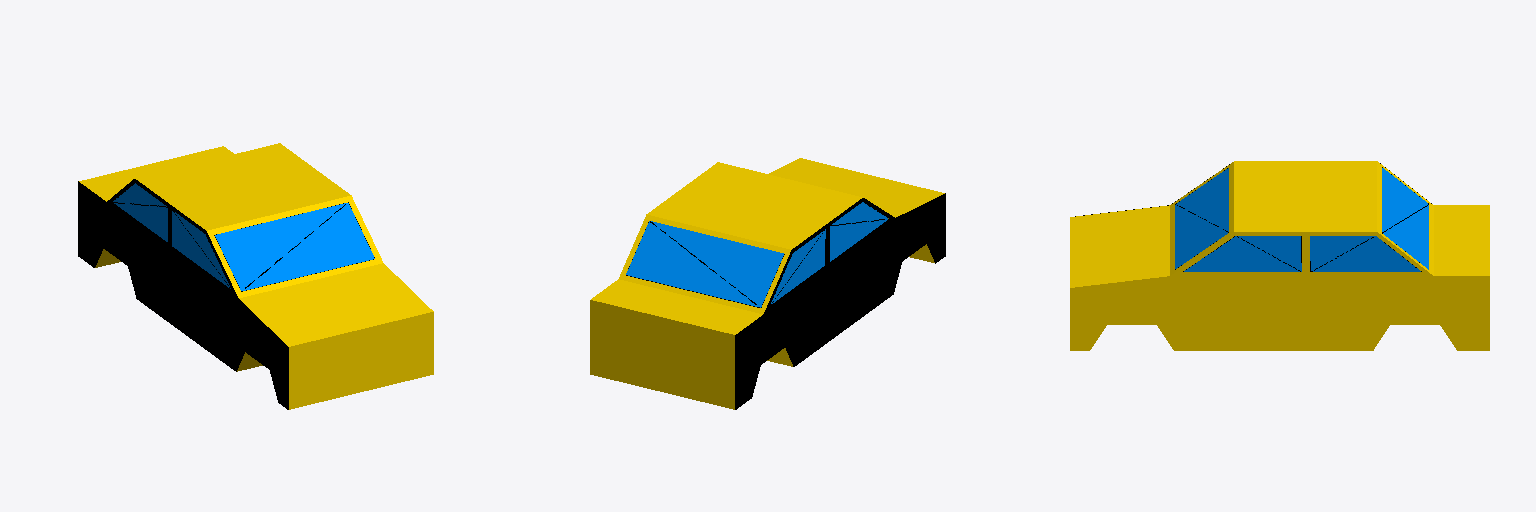
3 views of the same model, side by side, from view 1: azimuth 30°, elevation 25°; view 2: azimuth 150°, elevation 25°; view 3: azimuth 270°, elevation 25° (orthographic).
Parts seen in each view (by area): view 1: Cube1; view 2: Cube1; view 3: Cube1.
Boxes of the visible parts, box(x1,y1,x2,y2) form: Cube1: box(78, 143, 433, 409); Cube1: box(590, 158, 945, 409); Cube1: box(1070, 161, 1489, 350).
Bounding box in the file's own units: 2 × 1.56 × 5.
1 materials, 1 textured.